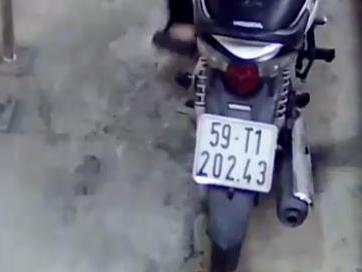num_plate: (192, 113, 279, 195)
